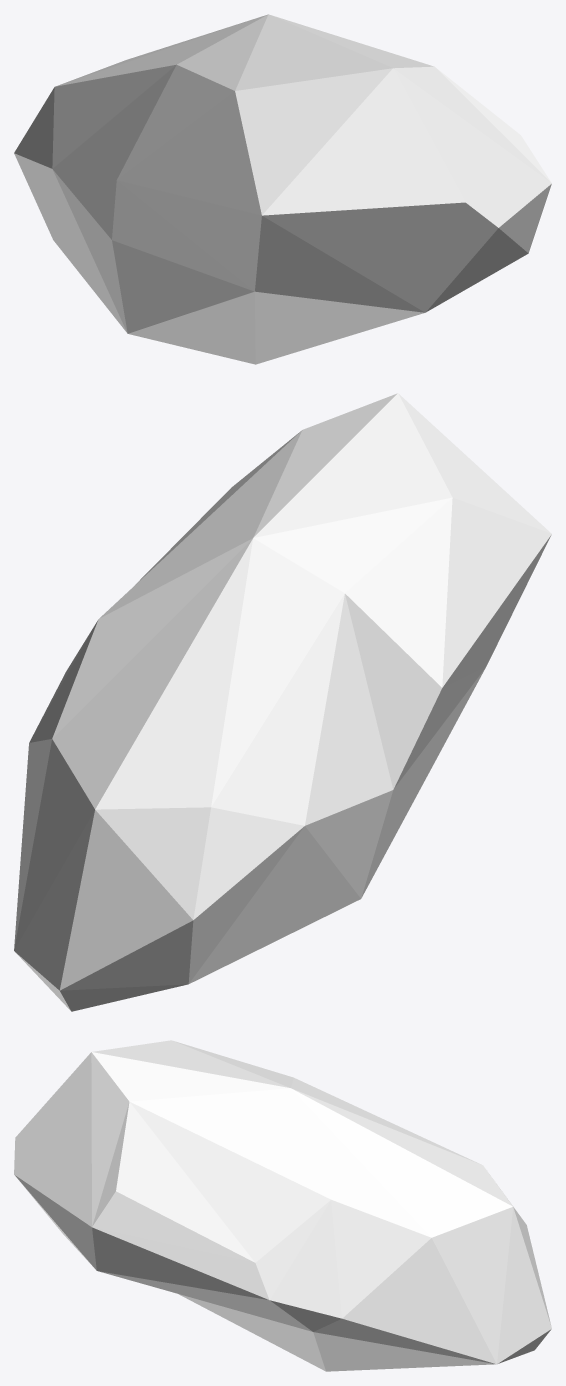
Rendered from Crop_Potato_03.glb.
3 renders of one model, top to bottom at view 1: azimuth 30°, elevation 25°; view 2: azimuth 150°, elevation 25°; view 3: azimuth 270°, elevation 25°, orthographic. The views are drawn at different scales.
Parts seen in each view (by area): view 1: Crop_Potato_03; view 2: Crop_Potato_03; view 3: Crop_Potato_03.
Part boxes in pixels (<box>): Crop_Potato_03: <box>14,14,551,364</box>; Crop_Potato_03: <box>14,393,551,1011</box>; Crop_Potato_03: <box>14,1040,551,1371</box>.
Size of the model in its own units: 0.1214 by 0.1333 by 0.2076.
Materials: 1 (1 with a texture image).
